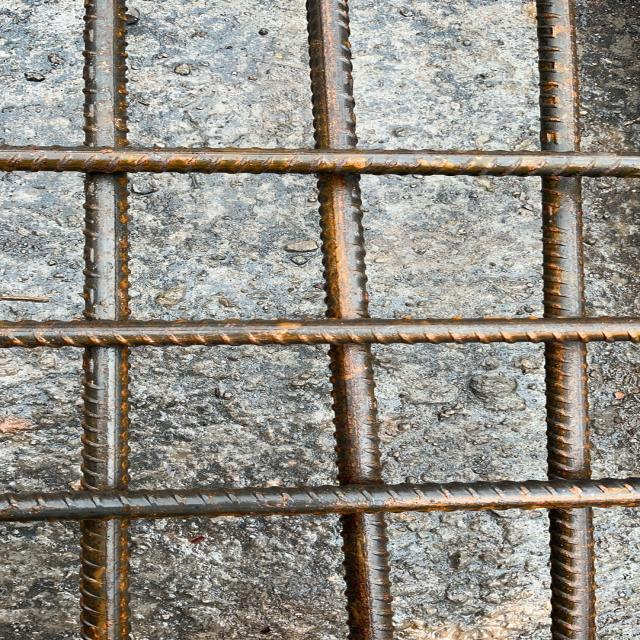ribbed bar: (304, 0, 395, 639), (536, 0, 595, 639), (80, 0, 131, 639), (0, 477, 639, 522), (0, 314, 639, 350), (0, 144, 639, 178)
